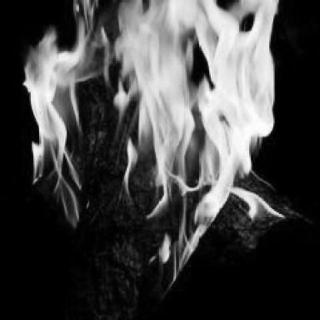Fire: (22, 0, 286, 288)
